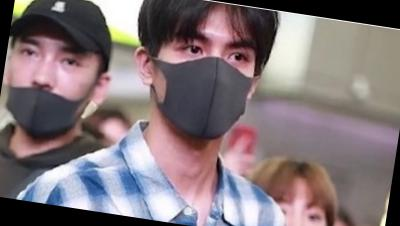with_mask: (143, 21, 261, 147)
without_mask: (269, 192, 331, 226)
